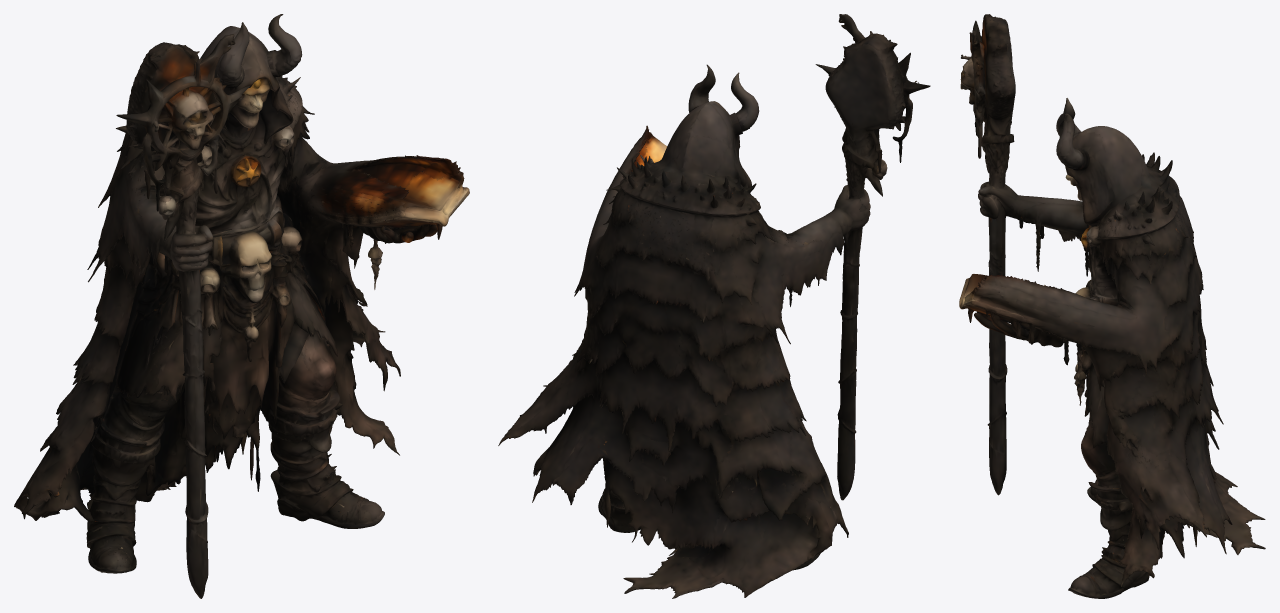
File: bandit.glb
3 views of the same model, side by side, from view 1: azimuth 30°, elevation 25°; view 2: azimuth 150°, elevation 25°; view 3: azimuth 270°, elevation 25° (orthographic). The views are drawn at different scales.
Parts seen in each view (by area): view 1: material; view 2: material; view 3: material.
Boxes of the visible parts, x1=… form: material: x1=14, y1=14, x2=469, y2=598; material: x1=498, y1=14, x2=930, y2=598; material: x1=959, y1=14, x2=1265, y2=598.
Bounding box in the file's own units: 0.6901 × 0.992 × 0.5699.
1 material, 1 textured.
